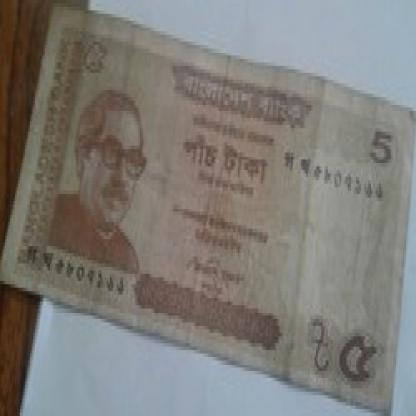Five Taka: (336, 319, 381, 409), (71, 28, 110, 86), (362, 118, 398, 177)
